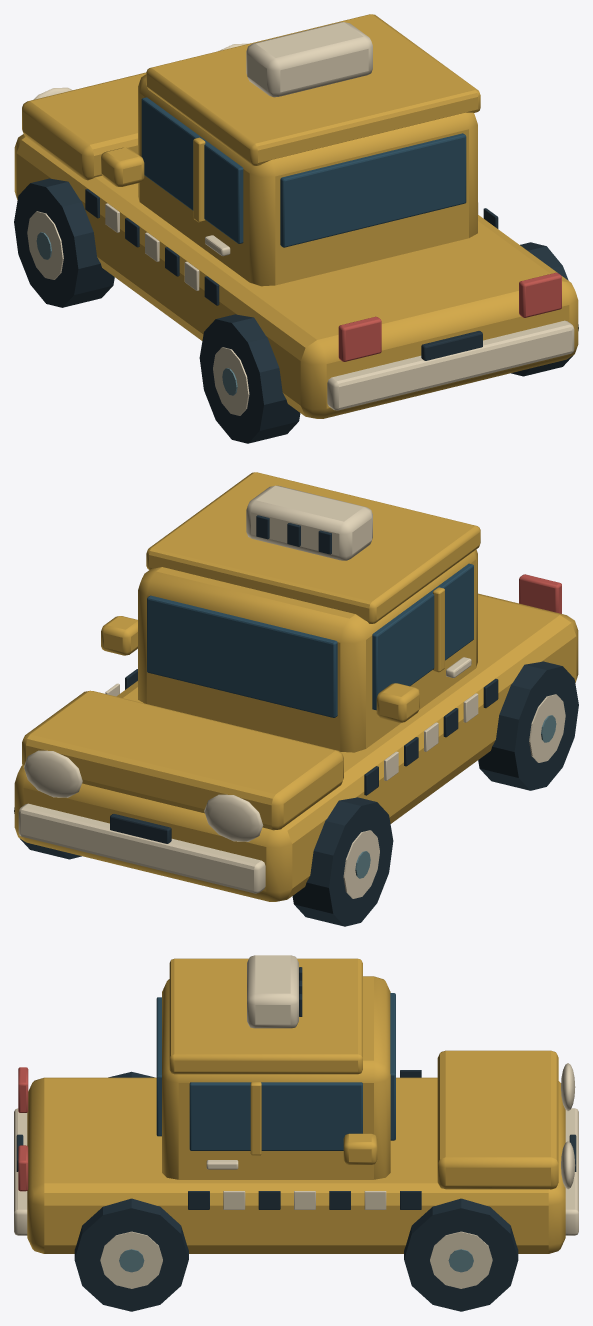
The model's file is taxi.glb.
3 views of the same model, one above another, from view 1: azimuth 30°, elevation 25°; view 2: azimuth 150°, elevation 25°; view 3: azimuth 270°, elevation 25° (orthographic). The views are drawn at different scales.
Parts seen in each view (by area): view 1: taxi.001; view 2: taxi.001; view 3: taxi.001.
Part boxes in pixels (<box>): taxi.001: <box>14,14,578,443</box>; taxi.001: <box>14,472,578,926</box>; taxi.001: <box>14,955,578,1311</box>.
Bounding box in the file's own units: 1.95 × 1.76 × 3.36.
